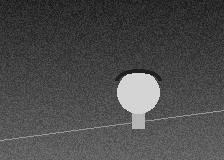no_helmet: (117, 69, 159, 118)
